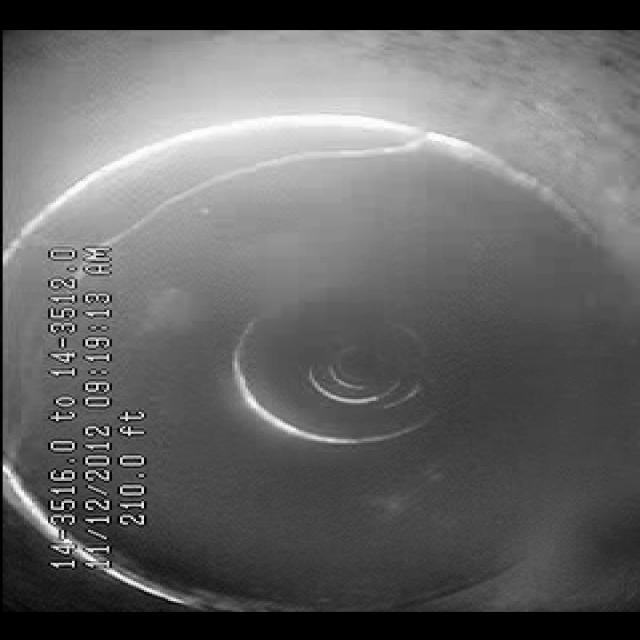Crack: (119, 122, 435, 232)
